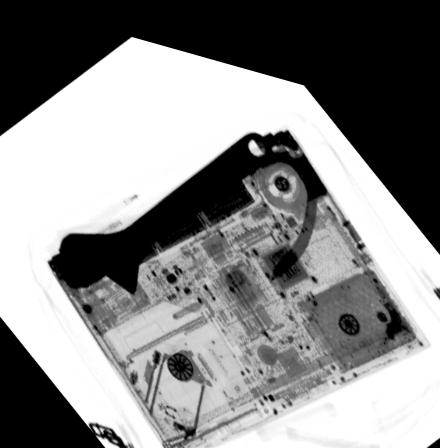Wrench: (54, 115, 275, 290)
